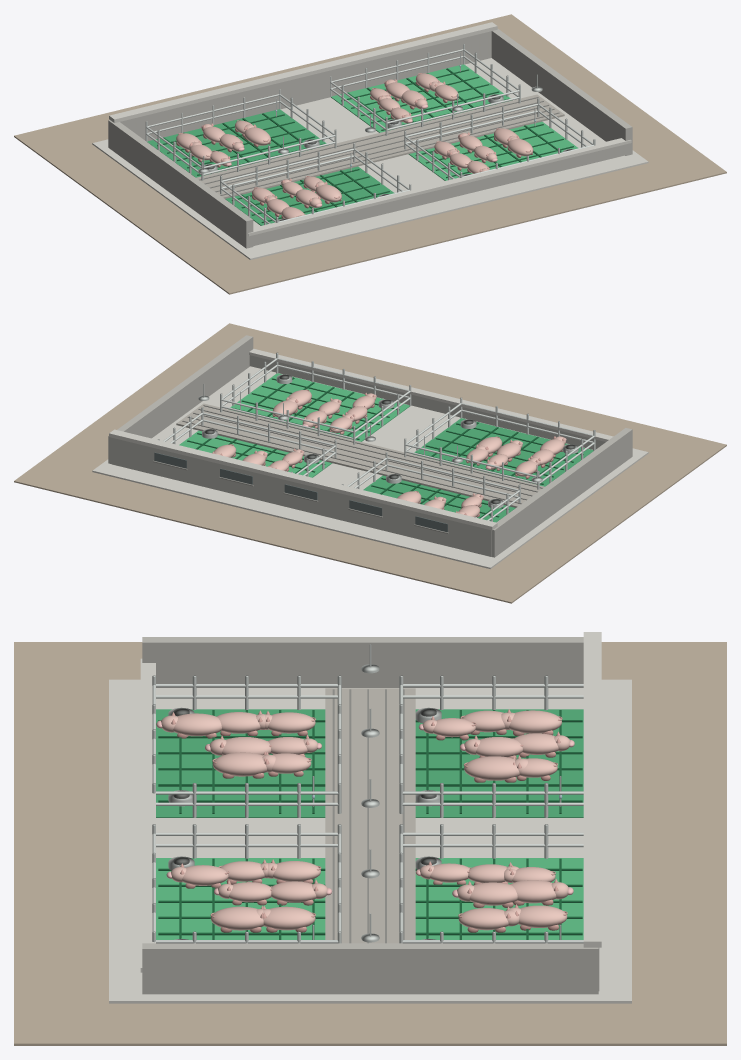
File: engorde.glb
3 renders of one model, top to bottom at view 1: azimuth 30°, elevation 25°; view 2: azimuth 150°, elevation 25°; view 3: azimuth 270°, elevation 25°, orthographic. The views are drawn at different scales.
Parts seen in each view (by area): view 1: outside-yard, back-wall, central-walkway, concrete-base, inside-floor, left-wall, right-wall, front-wall-low, back-wall-cap, engorde-corral-2-floor, engorde-corral-1-floor, front-curb-cap (+7 smaller); view 2: outside-yard, back-wall, central-walkway, concrete-base, left-wall, inside-floor, right-wall, back-wall-cap, engorde-corral-4-floor, front-wall-low, engorde-corral-3-floor, front-curb-cap (+6 smaller); view 3: outside-yard, concrete-base, right-wall, left-wall, central-walkway, inside-floor, engorde-corral-3-floor, engorde-corral-1-floor, back-wall-cap, engorde-corral-2-floor, engorde-corral-4-floor, front-curb-cap (+39 smaller).
Boxes of the visible parts, left/top/right/bottom form: outside-yard: left=14, top=14, right=726, bottom=294; back-wall: left=120, top=31, right=491, bottom=140; central-walkway: left=196, top=94, right=564, bottom=198; concrete-base: left=92, top=58, right=648, bottom=259; inside-floor: left=253, top=58, right=602, bottom=227; left-wall: left=108, top=120, right=253, bottom=248; right-wall: left=491, top=29, right=632, bottom=155; front-wall-low: left=253, top=144, right=625, bottom=245; back-wall-cap: left=109, top=22, right=497, bottom=122; engorde-corral-2-floor: left=331, top=64, right=510, bottom=132; engorde-corral-1-floor: left=147, top=109, right=327, bottom=177; front-curb-cap: left=248, top=138, right=631, bottom=236; outside-yard: left=14, top=323, right=726, bottom=603; back-wall: left=111, top=438, right=491, bottom=556; central-walkway: left=176, top=403, right=544, bottom=507; concrete-base: left=92, top=366, right=648, bottom=568; left-wall: left=491, top=428, right=632, bottom=557; inside-floor: left=155, top=367, right=592, bottom=489; right-wall: left=108, top=335, right=253, bottom=463; back-wall-cap: left=109, top=429, right=497, bottom=530; engorde-corral-4-floor: left=230, top=373, right=409, bottom=441; front-wall-low: left=249, top=355, right=605, bottom=449; engorde-corral-3-floor: left=413, top=418, right=593, bottom=486; front-curb-cap: left=249, top=348, right=613, bottom=441; outside-yard: left=14, top=642, right=726, bottom=1045; concrete-base: left=109, top=679, right=631, bottom=1003; right-wall: left=142, top=943, right=598, bottom=994; left-wall: left=142, top=637, right=583, bottom=687; central-walkway: left=325, top=688, right=415, bottom=943; inside-floor: left=156, top=690, right=583, bottom=857; engorde-corral-3-floor: left=156, top=709, right=325, bottom=817; engorde-corral-1-floor: left=415, top=709, right=583, bottom=817; back-wall-cap: left=583, top=632, right=601, bottom=947; engorde-corral-2-floor: left=415, top=858, right=583, bottom=939; engorde-corral-4-floor: left=156, top=858, right=325, bottom=939; front-curb-cap: left=140, top=658, right=155, bottom=972.
Size of the model in its own units: 40 by 3.05 by 30.
